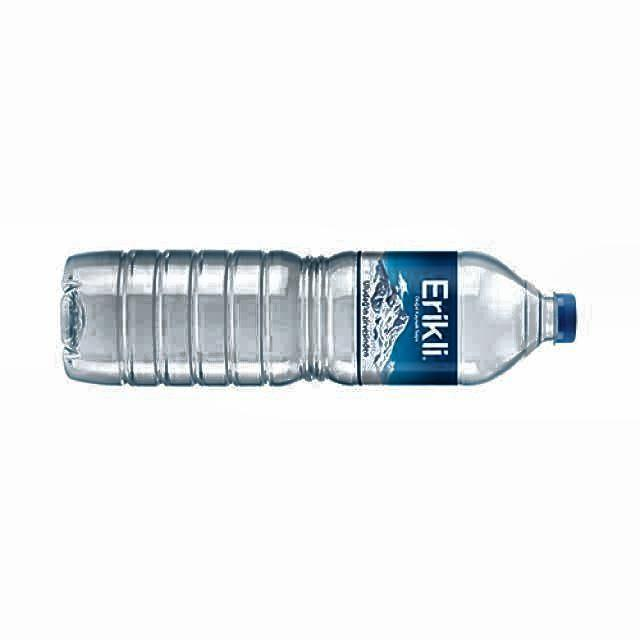plastic: (61, 250, 576, 385)
